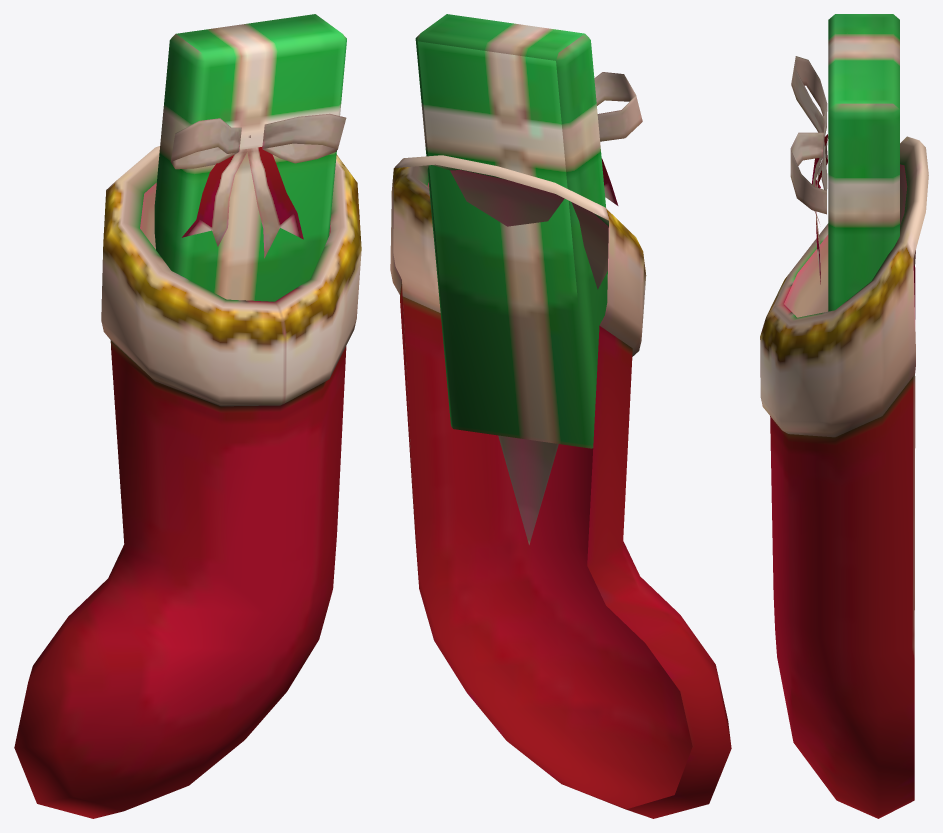
File: rmk_oth_socks.dae
3 views of the same model, side by side, from view 1: azimuth 30°, elevation 25°; view 2: azimuth 150°, elevation 25°; view 3: azimuth 270°, elevation 25° (orthographic). The views are drawn at different scales.
Parts seen in each view (by area): view 1: rmk_oth_socks; view 2: rmk_oth_socks; view 3: rmk_oth_socks.
Part boxes in pixels (x1,y1,x2,y2): rmk_oth_socks: (14,14,361,818); rmk_oth_socks: (390,14,731,818); rmk_oth_socks: (760,14,928,818).
Bounding box in the file's own units: 15.7 × 33.12 × 6.14.
1 material, 1 textured.
